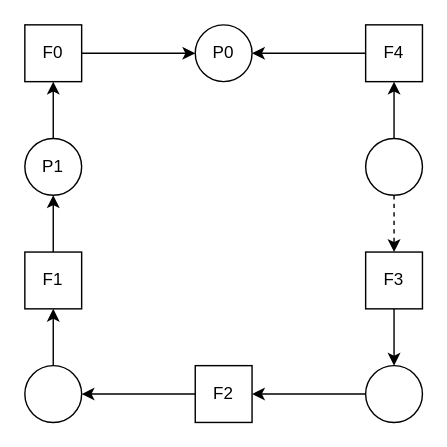
Image size: 447x447. Some labels were removed from this diagram. The box of each missing label's shape, as (x1, y1, x2, y2) in pixels:
P2: (23, 364, 82, 422)
P3: (364, 364, 422, 422)
P4: (364, 137, 422, 195)
